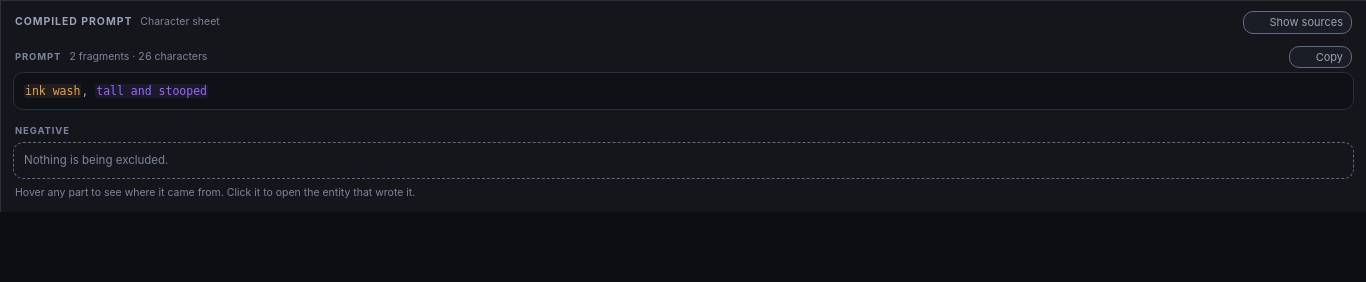
Test: the compiled prompt › names every source in prose when asked, for anyone the tint does not reach
The image size is (1366, 282).
Click the button "Show sources" at coordinates (1297, 22), box [1243,11,1352,34]
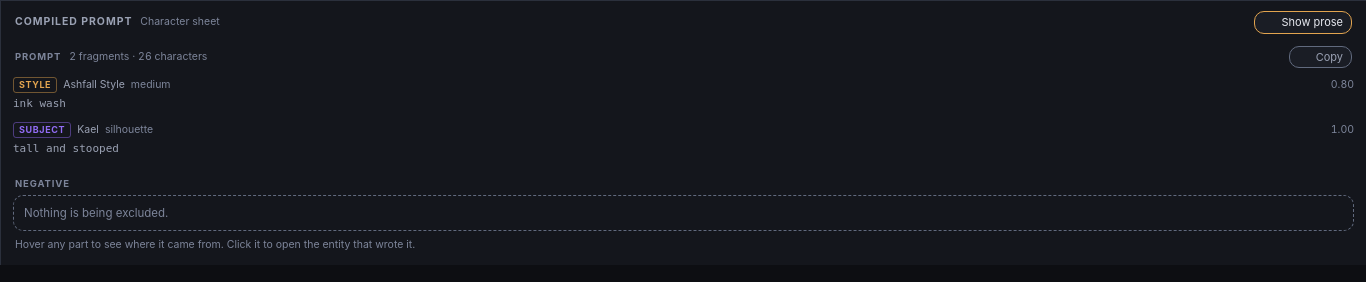
Expected: the element showing "Style Ashfall Style medium 0.80 ink wash" is shown, [13,72,1354,117]
